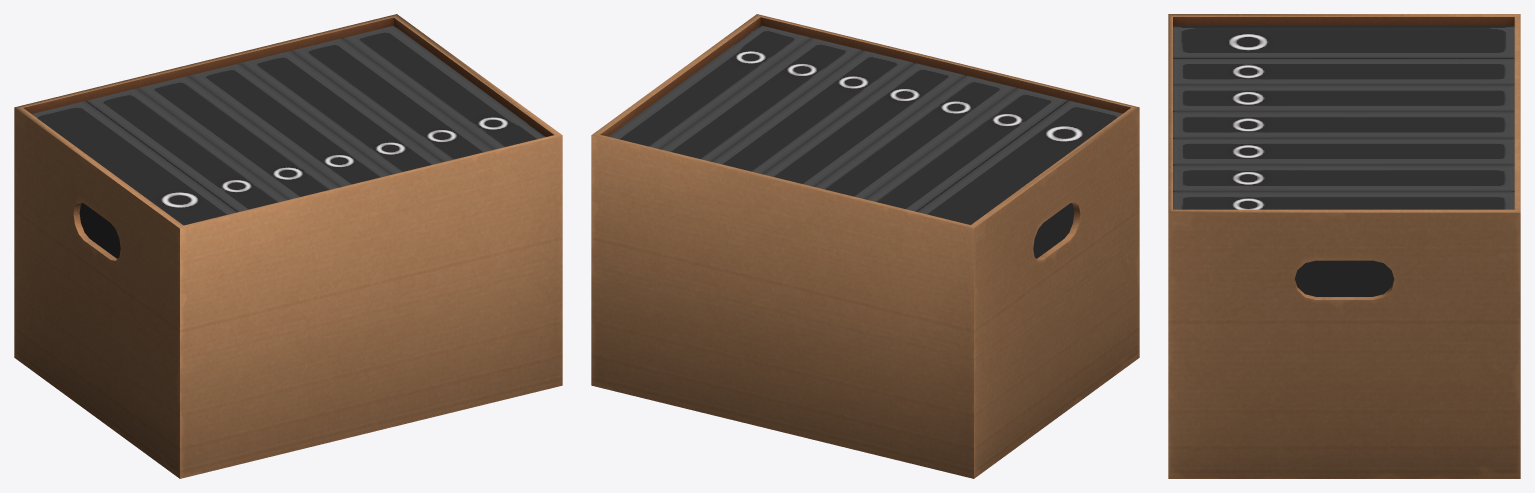
The model's file is OfficeBox01_4.FBX.
The picture shows the model from 3 angles, left to right: view 1: azimuth 30°, elevation 25°; view 2: azimuth 150°, elevation 25°; view 3: azimuth 270°, elevation 25°; orthographic projection. The views are drawn at different scales.
Visible parts, largest first — view 1: OfficeBox01_4; view 2: OfficeBox01_4; view 3: OfficeBox01_4.
Boxes of the visible parts, x1=… form: OfficeBox01_4: x1=14, y1=14, x2=562, y2=478; OfficeBox01_4: x1=591, y1=14, x2=1139, y2=478; OfficeBox01_4: x1=1168, y1=14, x2=1520, y2=478.
Size of what is drawn, in the model's own units: 0.4 by 0.25 by 0.3.
